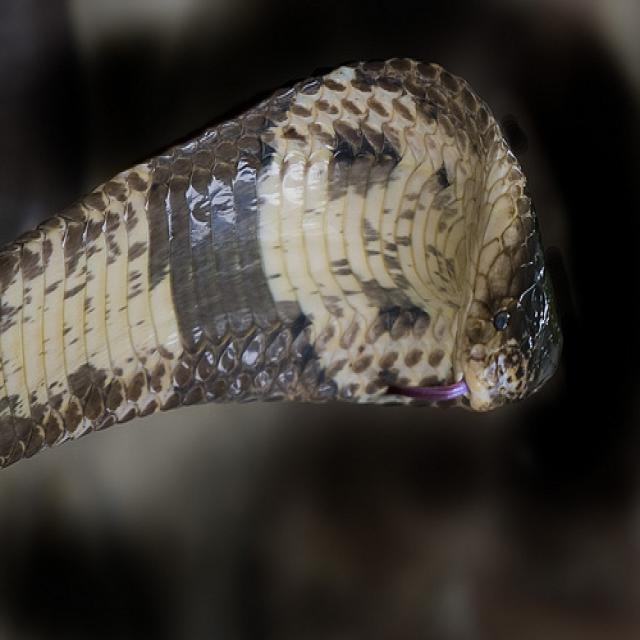Venomous: (255, 56, 585, 426)
